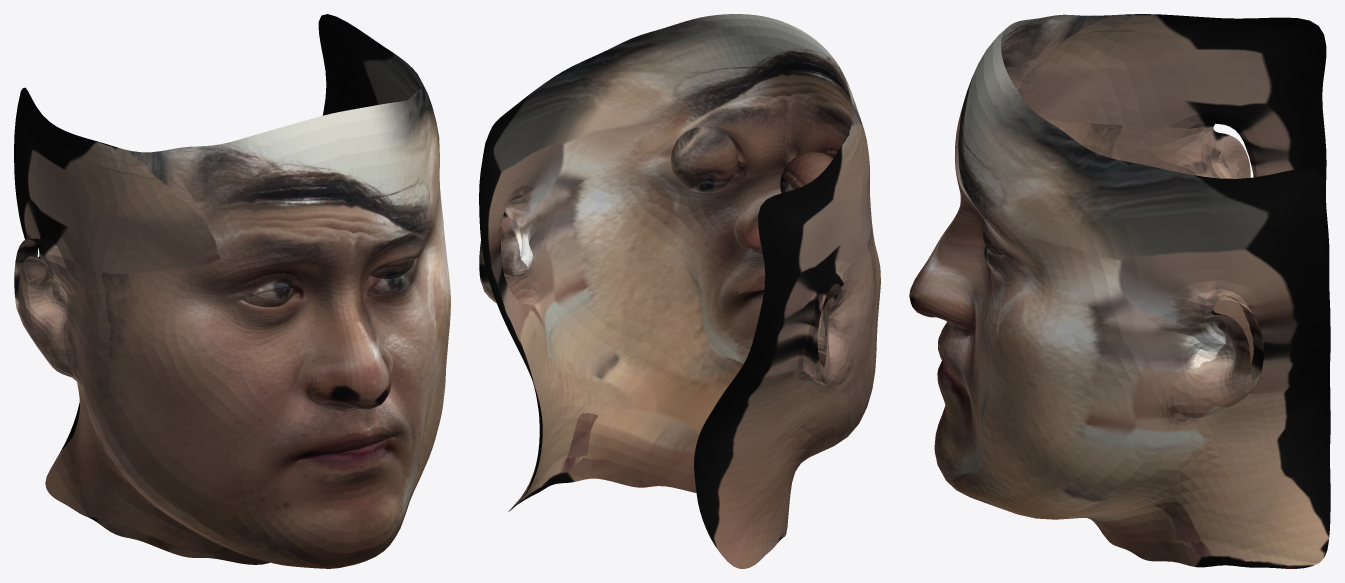
The model's file is baseline.glb.
3 renders of one model, left to right at view 1: azimuth 30°, elevation 25°; view 2: azimuth 150°, elevation 25°; view 3: azimuth 270°, elevation 25°, orthographic. The views are drawn at different scales.
Parts seen in each view (by area): view 1: geometry_0; view 2: geometry_0; view 3: geometry_0.
Part boxes in pixels (x1,y1,x2,y2): geometry_0: [14, 14, 450, 568]; geometry_0: [479, 14, 880, 568]; geometry_0: [909, 14, 1330, 568].
Size of the model in its own units: 0.1711 by 0.2118 by 0.166.
Materials: 1 (1 with a texture image).
